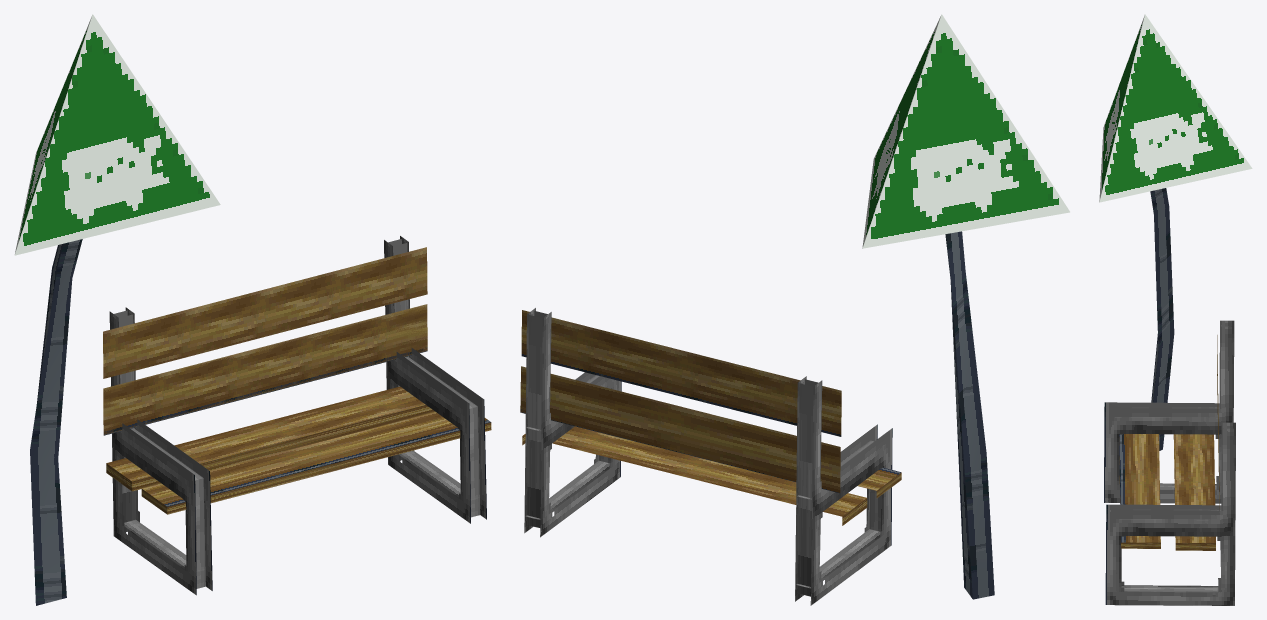
File: busstop.obj
The picture shows the model from 3 angles, left to right: view 1: azimuth 30°, elevation 25°; view 2: azimuth 150°, elevation 25°; view 3: azimuth 270°, elevation 25°; orthographic projection. The views are drawn at different scales.
Size of the model in its own units: 18.18 by 20.72 by 6.33.
Materials: 1 (1 with a texture image).
